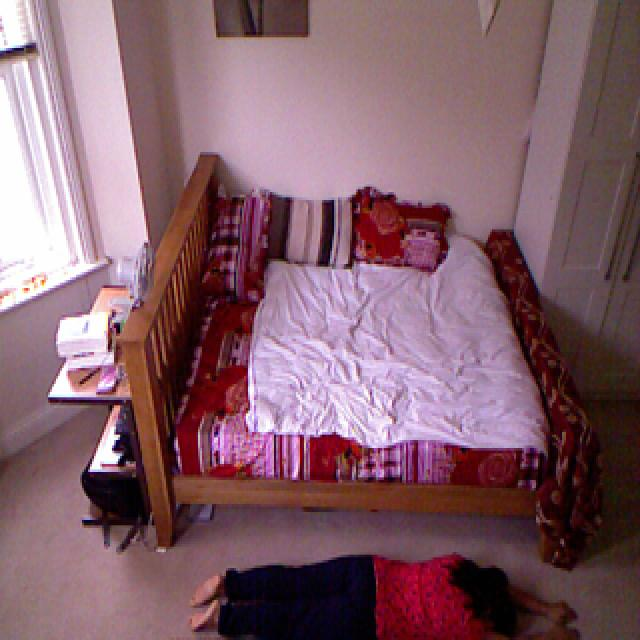lying: (181, 546, 585, 640)
